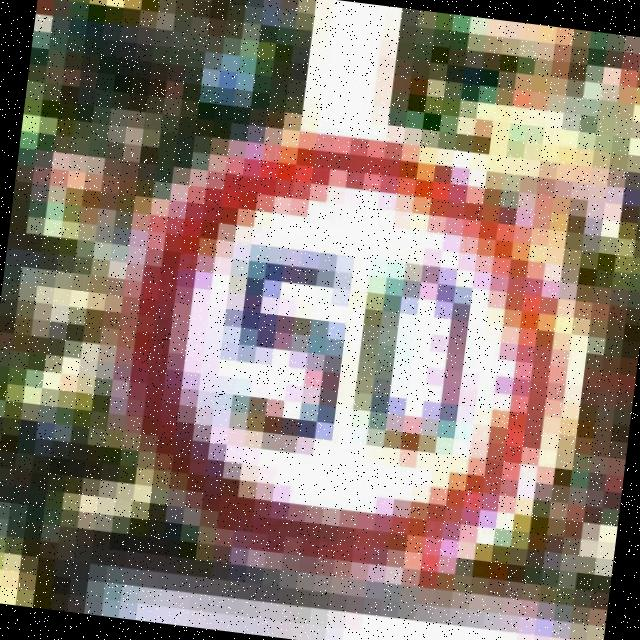Ograniczenie predkosci do 50: (95, 113, 568, 592)
